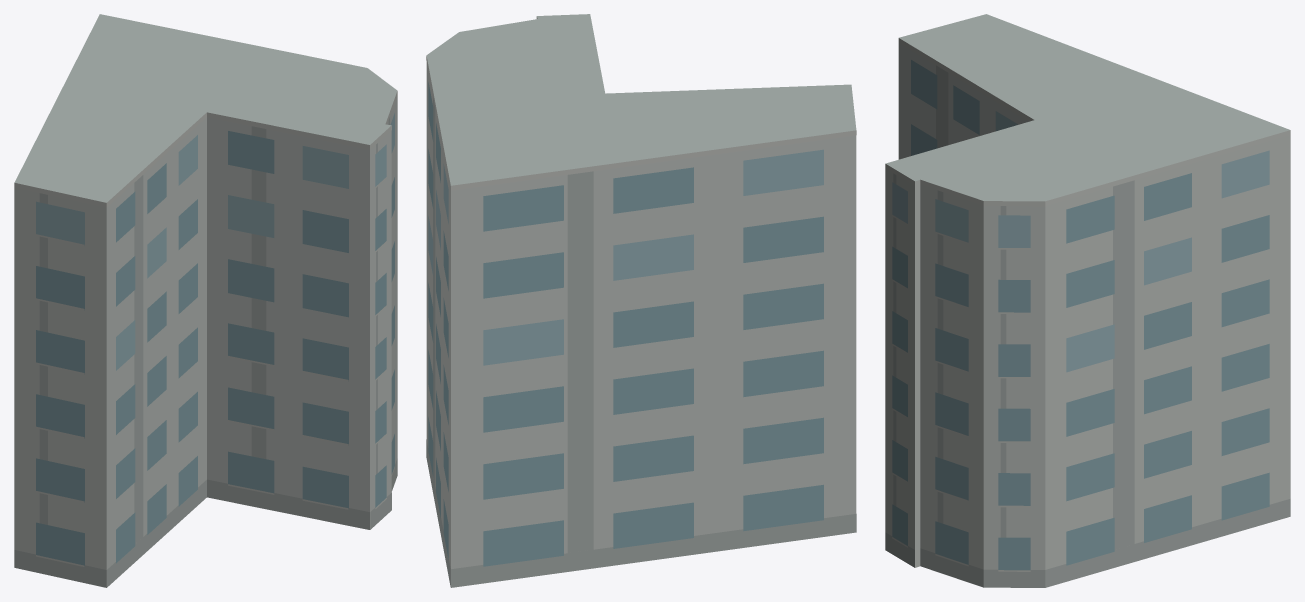
Rendered from survey-upis-32880642.glb.
The picture shows the model from 3 angles, left to right: view 1: azimuth 30°, elevation 25°; view 2: azimuth 150°, elevation 25°; view 3: azimuth 270°, elevation 25°; orthographic projection. The views are drawn at different scales.
Parts seen in each view (by area): view 1: survey-upis-32880642.tmp; view 2: survey-upis-32880642.tmp; view 3: survey-upis-32880642.tmp.
Boxes of the visible parts, <box> form: survey-upis-32880642.tmp: <box>14,14,397,587</box>; survey-upis-32880642.tmp: <box>426,14,856,587</box>; survey-upis-32880642.tmp: <box>885,14,1290,587</box>.
Size of the model in its own units: 20.07 by 19.3 by 18.35.
